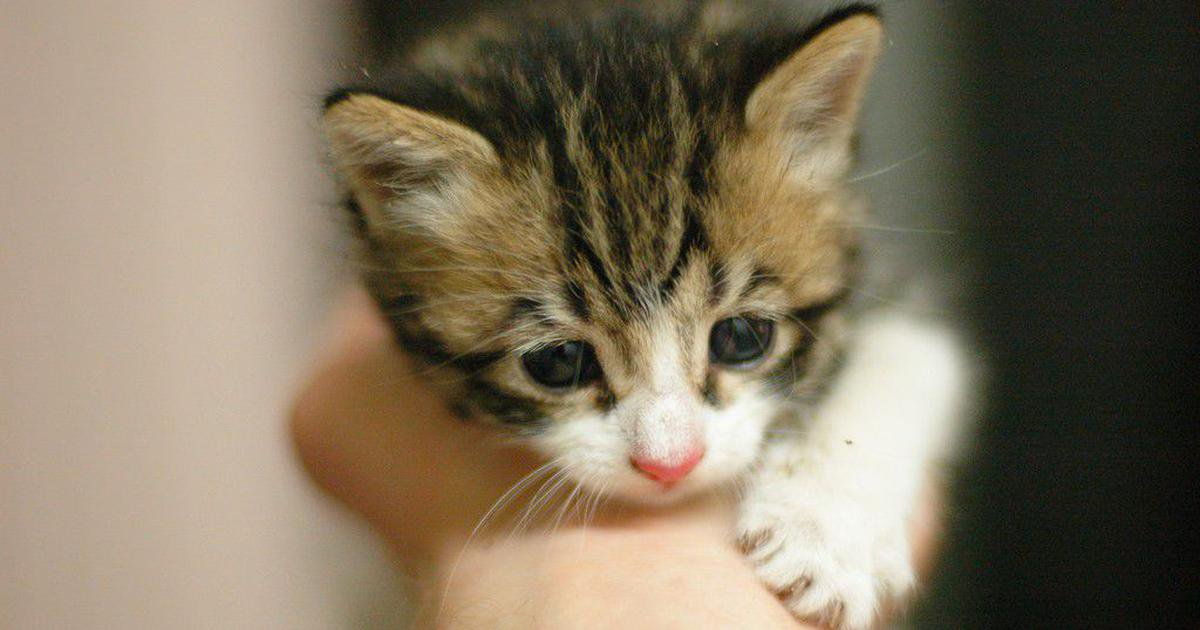cat: (325, 6, 957, 597)
